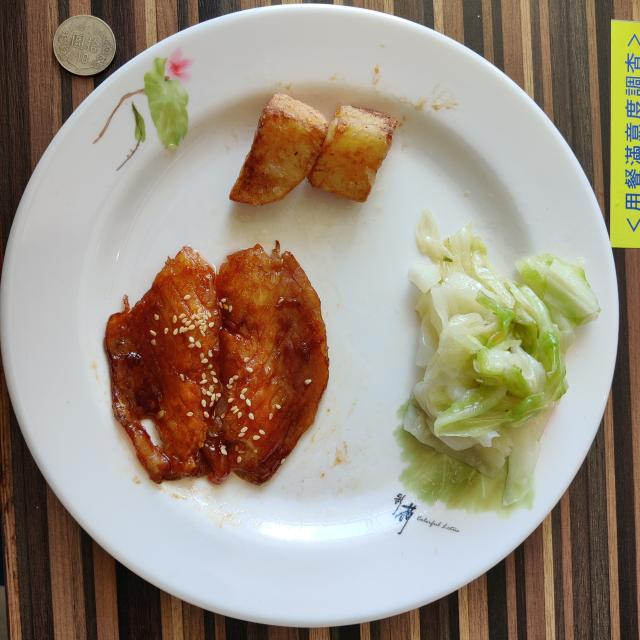Kabayaki sea bream fillet: (106, 242, 329, 485)
cabbage: (404, 209, 600, 505)
coin: (52, 15, 116, 76)
fried potato: (230, 92, 398, 206)
